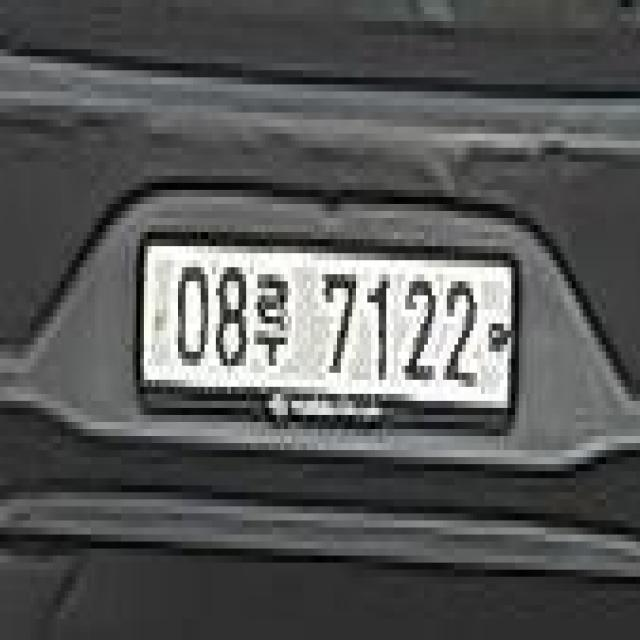illegal_plate: (133, 221, 523, 451)
